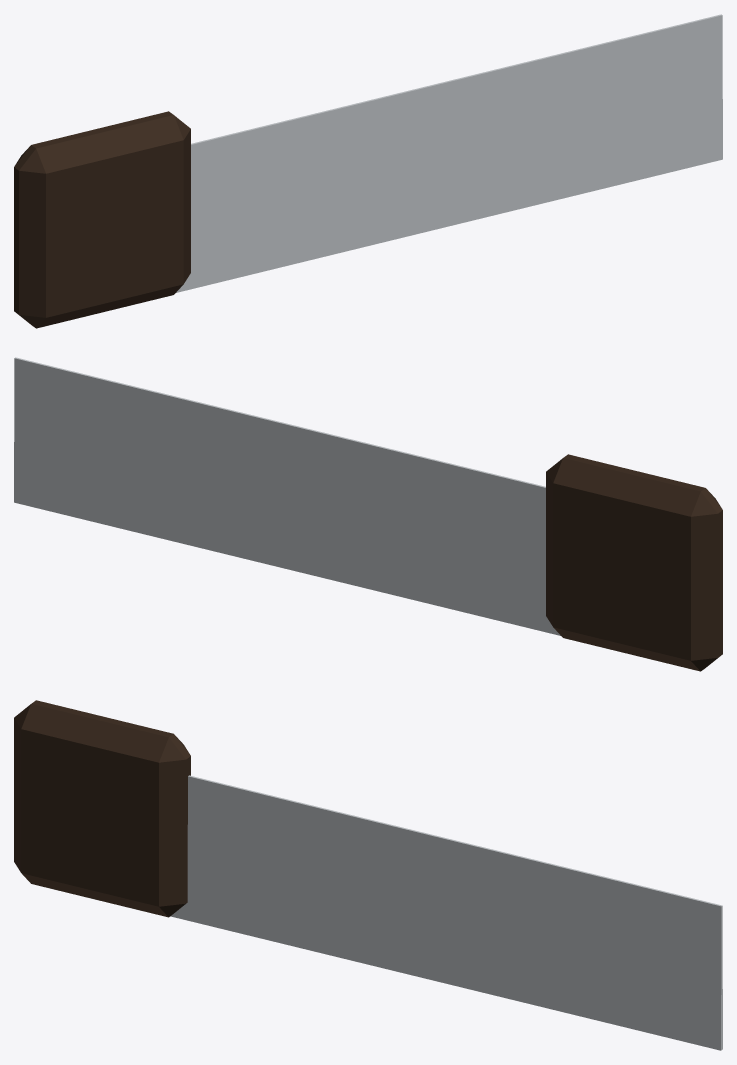
The model's file is saw.glb.
The picture shows the model from 3 angles, top to bottom: view 1: azimuth 30°, elevation 25°; view 2: azimuth 150°, elevation 25°; view 3: azimuth 330°, elevation 25°; orthographic projection.
Visible parts, largest first — view 1: Item; view 2: Item; view 3: Item.
Part boxes in pixels (<box>): Item: <box>14,14,722,328</box>; Item: <box>14,357,722,671</box>; Item: <box>14,700,722,1050</box>.
Size of the model in its own units: 0.41 by 0.1 by 0.025.
